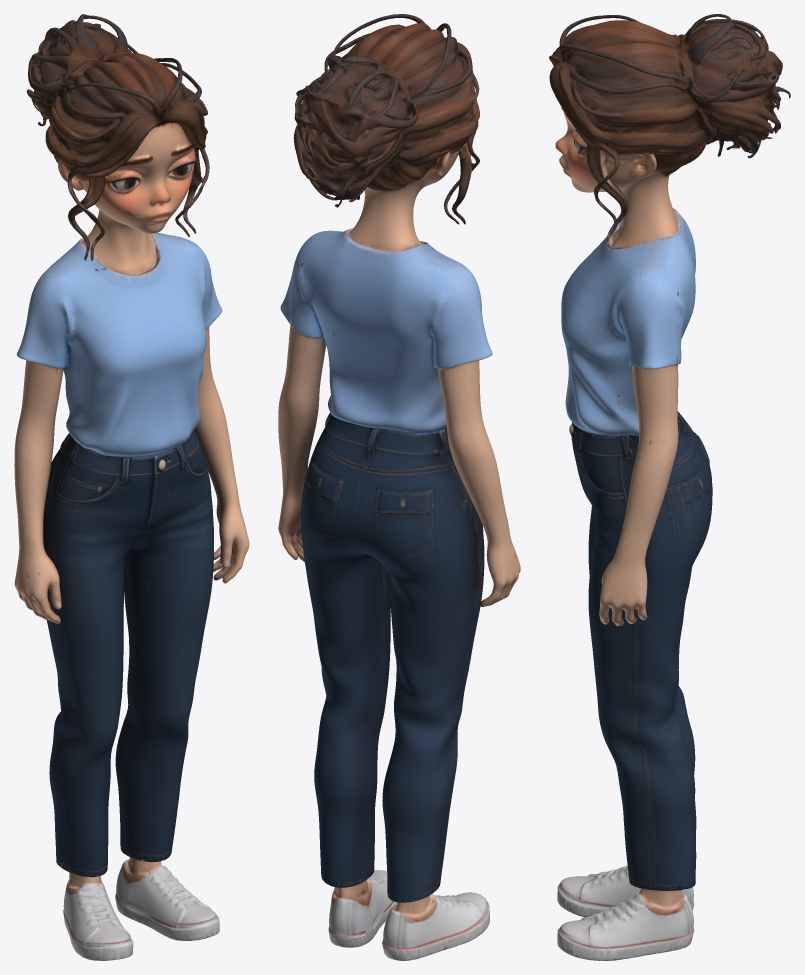
The model's file is stoic_part.glb.
3 views of the same model, side by side, from view 1: azimuth 30°, elevation 25°; view 2: azimuth 150°, elevation 25°; view 3: azimuth 270°, elevation 25° (orthographic). The views are drawn at different scales.
Bounding box in the file's own units: 0.5282 × 2 × 0.4798.
1 material, 1 textured.
